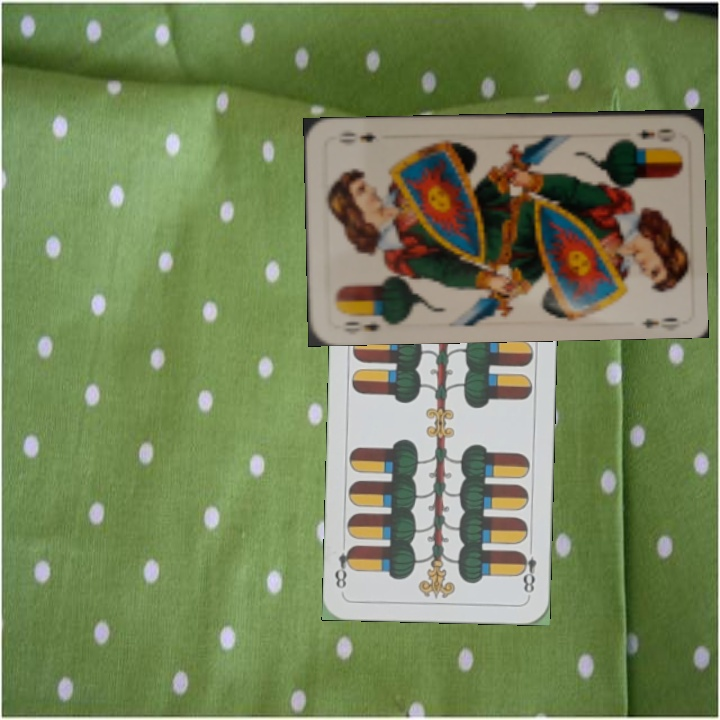E8: (516, 540, 539, 599)
EO: (335, 310, 392, 333), (631, 125, 678, 144)
